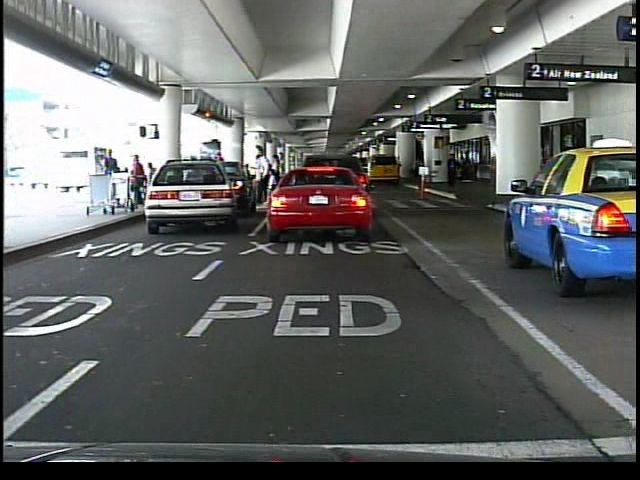person: (212, 149, 230, 201), (326, 153, 343, 208), (256, 148, 272, 206), (103, 148, 119, 204), (445, 152, 459, 189)
